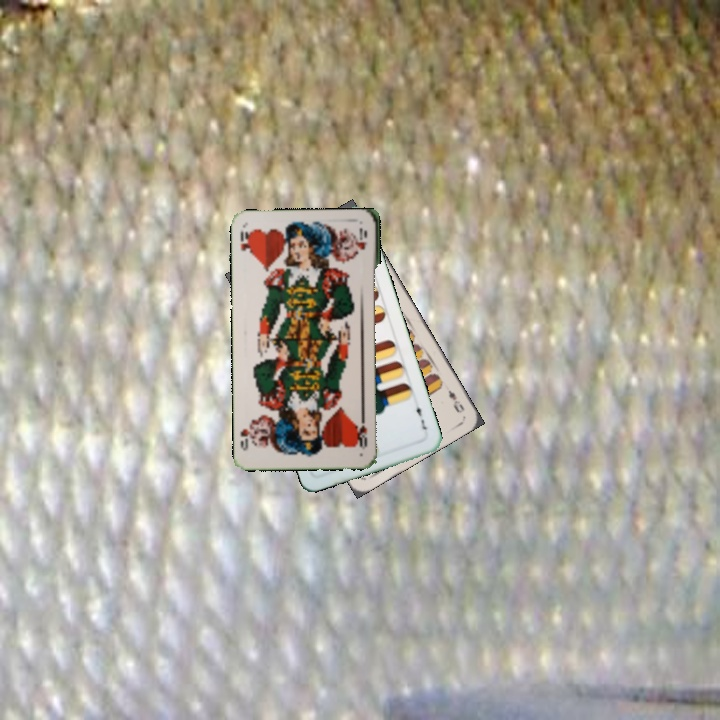E7: (412, 399, 430, 433)
E9: (444, 386, 467, 416)
HO: (236, 227, 254, 258), (357, 412, 370, 451)
